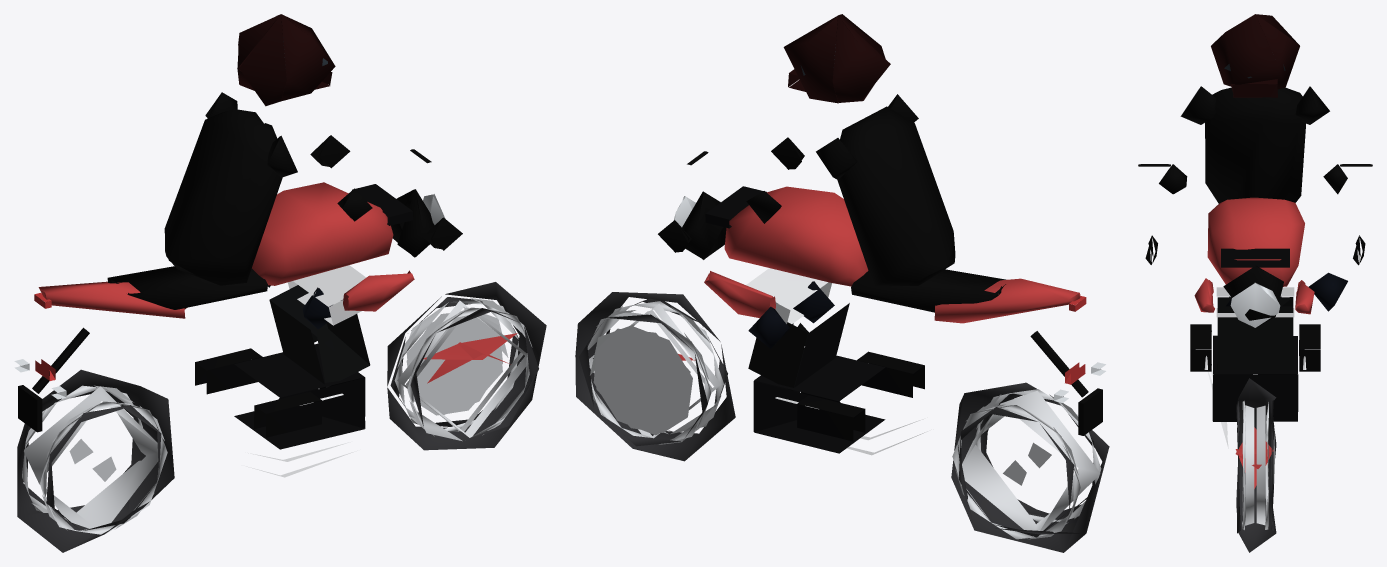
Rendered from m_road_ufar.glb.
3 views of the same model, side by side, from view 1: azimuth 30°, elevation 25°; view 2: azimuth 150°, elevation 25°; view 3: azimuth 270°, elevation 25° (orthographic). The views are drawn at different scales.
Parts seen in each view (by area): view 1: WheelF, WheelR, Torso, Tank, Helmet, Crankcase, Cylinders, Seat, Tail, Boot.001, Head, Boot (+10 smaller); view 2: WheelF, WheelR, Torso, Tank, Helmet, Crankcase, Cylinders, Seat, Tail, Boot, Head, Boot.001 (+8 smaller); view 3: Torso, Tank, WheelF, Helmet, Cylinders, Crankcase, TripleClamp, HeadLight, HeadShell, Boot, Boot.001, Shoulder.001 (+9 smaller).
Boxes of the visible parts, x1,y1,x2,y2 form: WheelF: [387, 282, 546, 450]; WheelR: [17, 369, 174, 552]; Torso: [164, 109, 282, 285]; Tank: [252, 182, 393, 285]; Helmet: [237, 14, 335, 106]; Crankcase: [234, 343, 365, 449]; Cylinders: [269, 285, 370, 387]; Seat: [107, 266, 267, 309]; Tail: [38, 281, 186, 318]; Boot.001: [254, 392, 321, 437]; Head: [288, 265, 365, 325]; Boot: [195, 348, 262, 394]; WheelF: [575, 292, 735, 461]; WheelR: [951, 382, 1109, 552]; Torso: [837, 106, 955, 286]; Tank: [724, 186, 868, 286]; Helmet: [783, 14, 890, 103]; Crankcase: [753, 348, 885, 453]; Cylinders: [748, 302, 849, 391]; Seat: [851, 269, 1005, 312]; Tail: [934, 278, 1080, 323]; Boot: [797, 395, 865, 441]; Head: [746, 268, 831, 323]; Boot.001: [857, 351, 924, 397]; Torso: [1205, 87, 1306, 203]; Tank: [1207, 197, 1304, 286]; WheelF: [1236, 378, 1276, 552]; Helmet: [1211, 14, 1299, 89]; Cylinders: [1217, 297, 1293, 370]; Crankcase: [1212, 335, 1298, 421]; TripleClamp: [1221, 248, 1289, 267]; HeadLight: [1230, 282, 1280, 327]; HeadShell: [1223, 266, 1283, 328]; Boot: [1299, 324, 1320, 371]; Boot.001: [1190, 324, 1211, 371]; Shoulder.001: [1180, 86, 1216, 124].
Size of the model in its own units: 2.06 by 1.8 by 0.8612.
